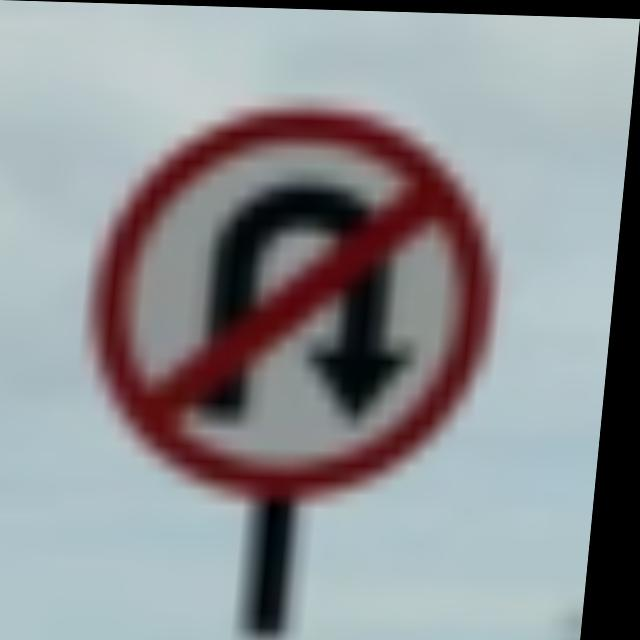not_u_turn_right: (67, 80, 541, 501)
